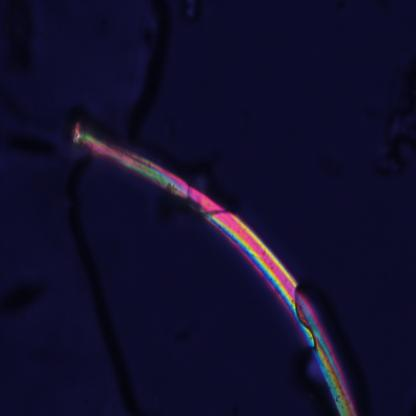Microfibre: (70, 118, 356, 415)
